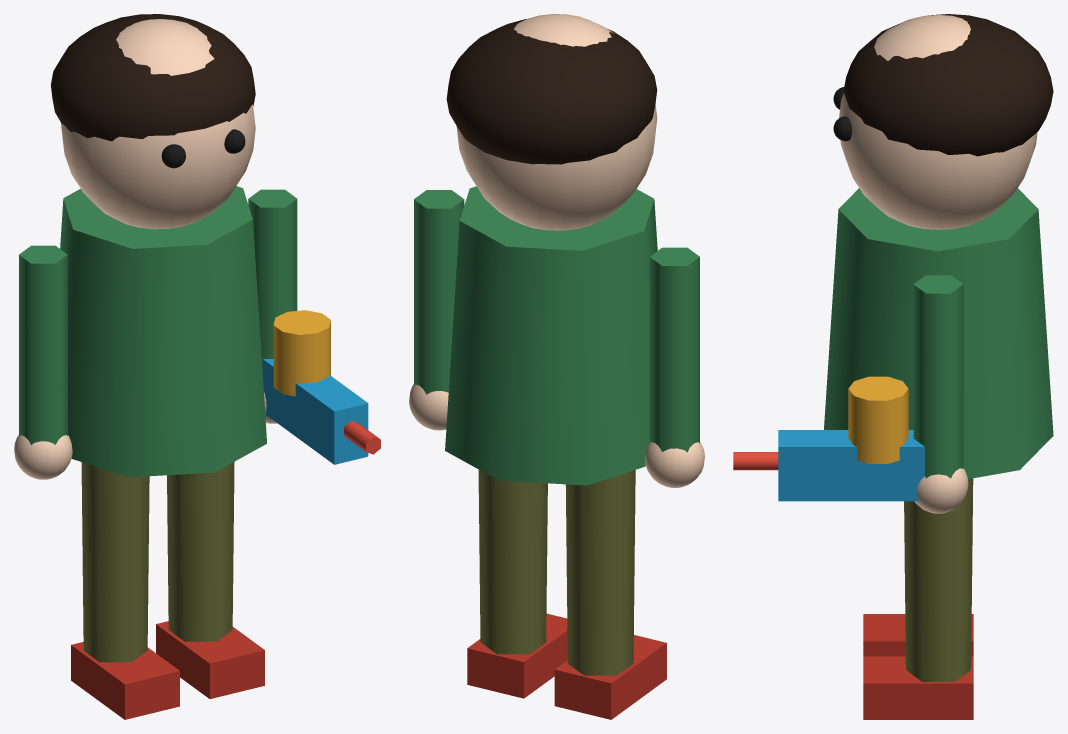
File: kid_water_2.glb
The picture shows the model from 3 angles, left to right: view 1: azimuth 30°, elevation 25°; view 2: azimuth 150°, elevation 25°; view 3: azimuth 270°, elevation 25°; orthographic projection. The views are drawn at different scales.
Parts seen in each view (by area): view 1: object 1, head, legL, armR, legR, armL; view 2: object 1, head, legL, legR, armL, armR; view 3: object 1, head, armR, legR, legL.
Boxes of the visible parts, x1,y1,x2,y2 form: object 1: [60, 186, 266, 477]; head: [50, 14, 255, 229]; legL: [71, 462, 179, 719]; armR: [248, 189, 380, 464]; legR: [156, 462, 264, 698]; armL: [14, 245, 72, 479]; object 1: [445, 186, 657, 485]; head: [446, 14, 657, 230]; legL: [554, 470, 666, 719]; legR: [467, 470, 567, 698]; armL: [645, 247, 704, 487]; armR: [409, 190, 464, 430]; object 1: [824, 188, 1053, 479]; head: [833, 14, 1053, 229]; armR: [733, 275, 968, 513]; legR: [863, 478, 973, 719]; legL: [863, 614, 973, 656].
Size of the model in its own units: 0.66 by 1.46 by 0.64.
